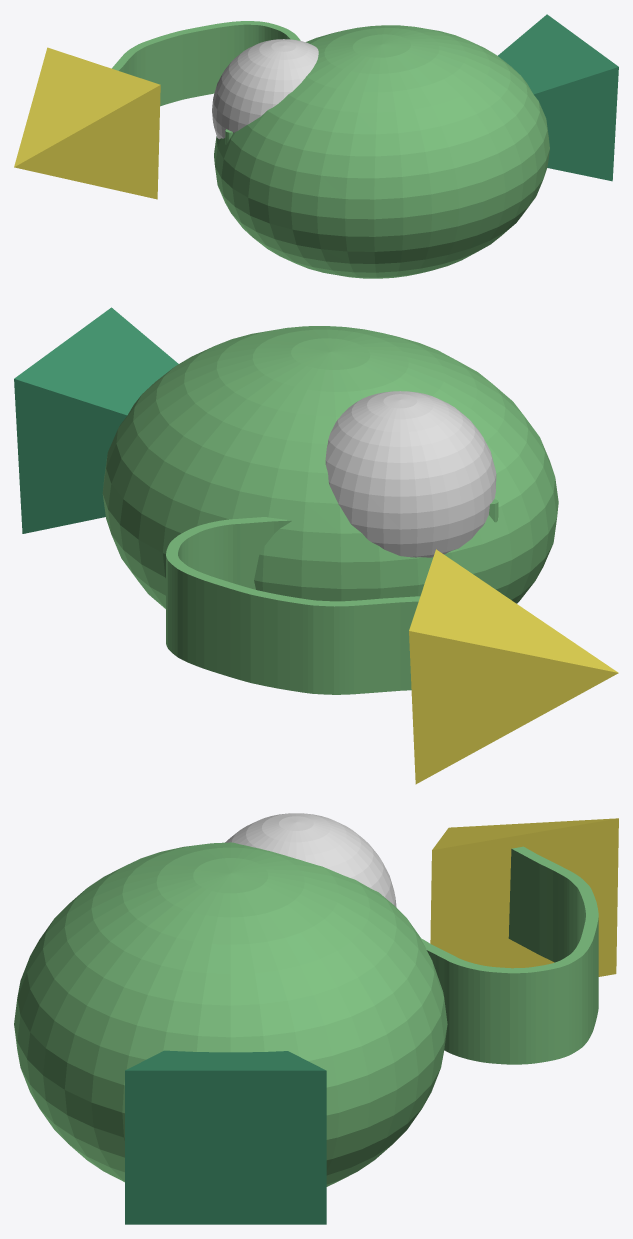
Rendered from fish.gltf.
3 renders of one model, top to bottom at view 1: azimuth 30°, elevation 25°; view 2: azimuth 150°, elevation 25°; view 3: azimuth 270°, elevation 25°, orthographic. The views are drawn at different scales.
Parts seen in each view (by area): view 1: Mesh_Mesh_head_geo001_lambert2SG001; view 2: Mesh_Mesh_head_geo001_lambert2SG001; view 3: Mesh_Mesh_head_geo001_lambert2SG001.
Boxes of the visible parts, left/top/right/bottom form: Mesh_Mesh_head_geo001_lambert2SG001: left=14, top=14, right=618, bottom=278; Mesh_Mesh_head_geo001_lambert2SG001: left=14, top=307, right=618, bottom=784; Mesh_Mesh_head_geo001_lambert2SG001: left=14, top=813, right=618, bottom=1224.
Bounding box in the file's own units: 78.6 × 33 × 60.
